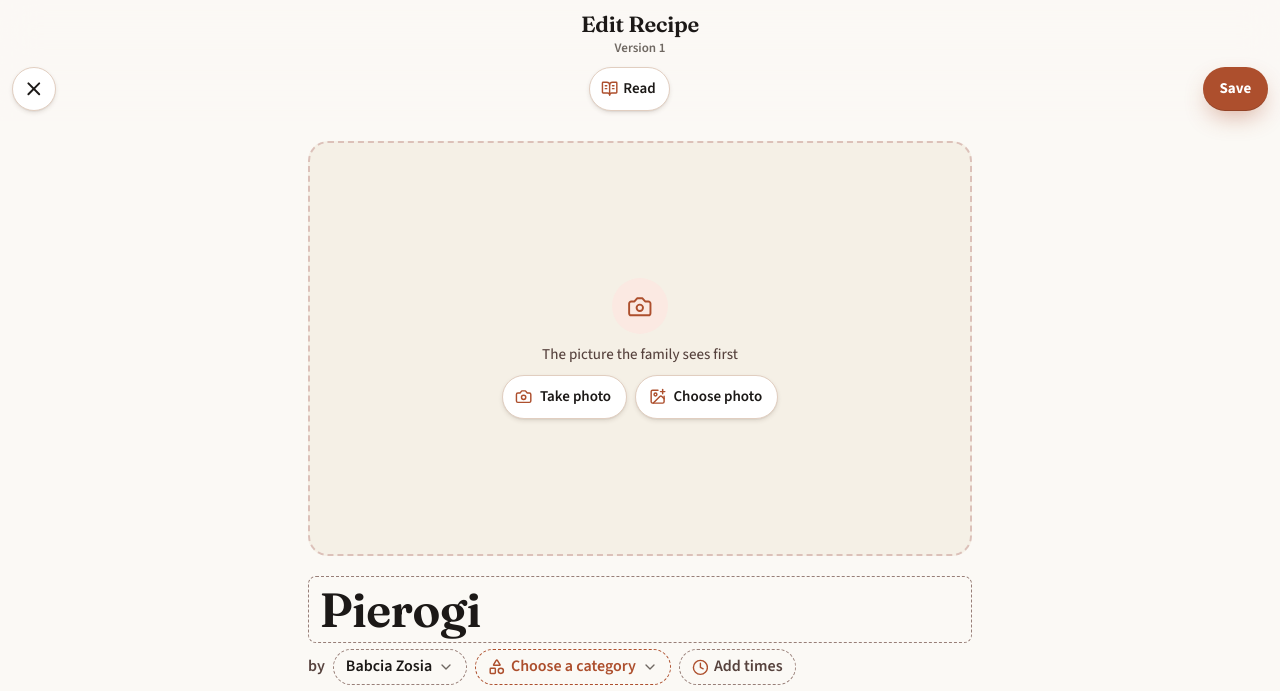
Test: recipe author choice › opens an older recipe with its typed author on "Someone else"
Click the button "Babcia Zosia" at (400, 667), box [333, 649, 467, 685]
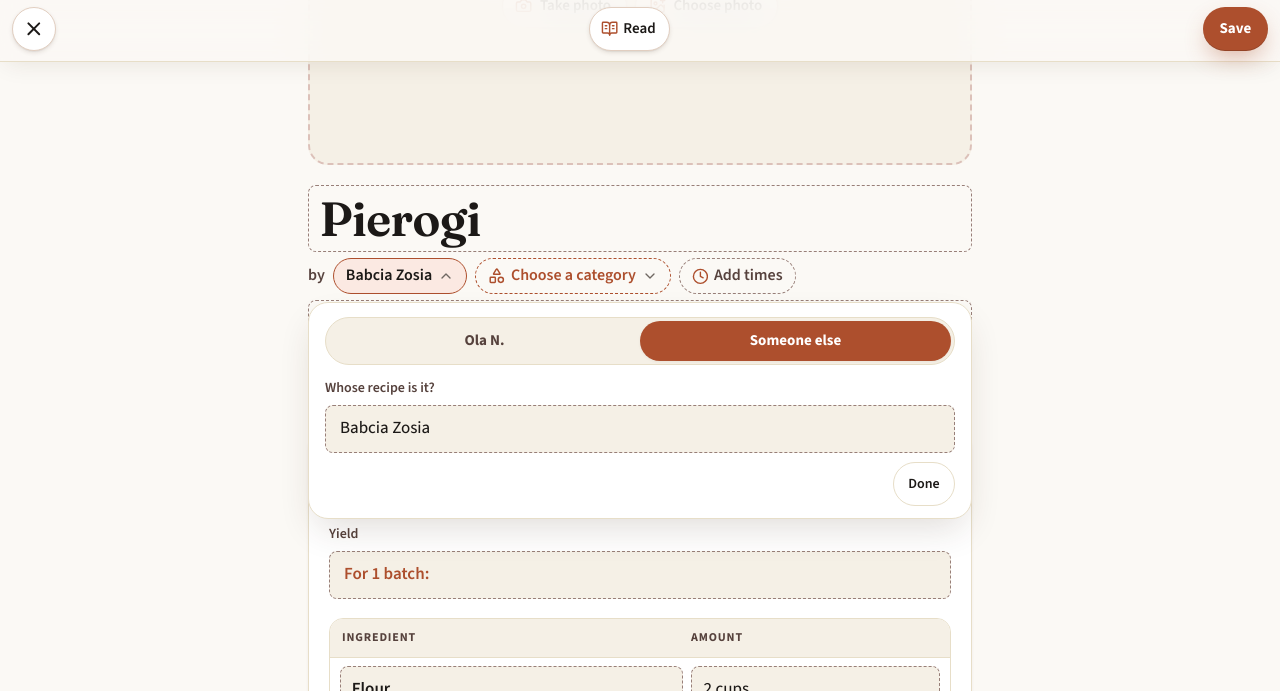
Result: the radio button labelled "Someone else" is checked at [750, 331, 841, 352]
Result: the field labelled "Whose recipe is it?" holds "Babcia Zosia" at [325, 405, 955, 453]
